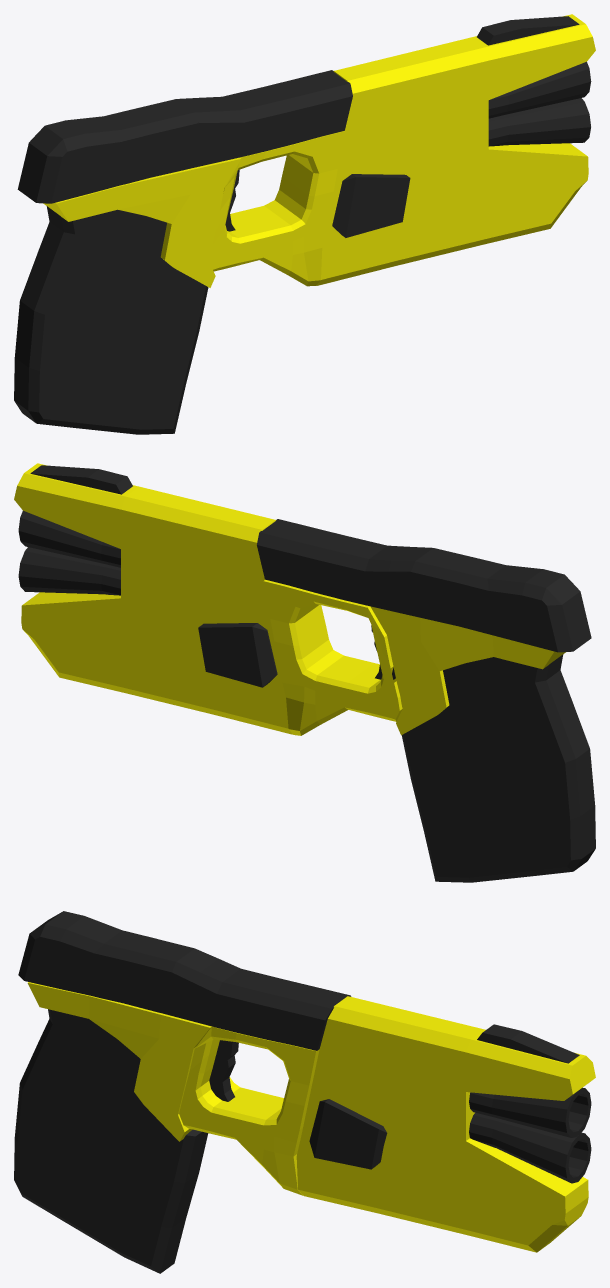
File: Taser.fbx
The picture shows the model from 3 angles, top to bottom: view 1: azimuth 30°, elevation 25°; view 2: azimuth 150°, elevation 25°; view 3: azimuth 330°, elevation 25°; orthographic projection.
Visible parts, largest first — view 1: Cube, Stock, Cube.001, Cube.002, Cube.003, Cube.004, Cylinder.001, Cylinder; view 2: Cube, Stock, Cube.001, Cube.002, Cube.003, Cube.004, Cylinder.001, Cylinder; view 3: Cube, Stock, Cube.001, Cube.002, Cube.003, Cylinder.001, Cube.004, Cylinder, Cube.005.
Part boxes in pixels (x1,y1,x2,y2): Cube: (317, 14, 595, 285); Stock: (14, 206, 208, 434); Cube.001: (17, 70, 352, 203); Cube.002: (209, 131, 344, 286); Cube.003: (43, 157, 240, 287); Cube.004: (332, 174, 410, 237); Cylinder.001: (488, 98, 590, 146); Cylinder: (488, 61, 591, 118); Cube: (14, 463, 292, 734); Stock: (401, 654, 595, 882); Cube.001: (257, 519, 591, 652); Cube.002: (263, 579, 402, 735); Cube.003: (370, 606, 565, 735); Cube.004: (198, 623, 277, 687); Cylinder.001: (18, 547, 120, 595); Cylinder: (18, 510, 120, 567); Cube: (296, 996, 595, 1252); Stock: (14, 1009, 208, 1273); Cube.001: (18, 911, 351, 1050); Cube.002: (179, 1026, 319, 1195); Cube.003: (27, 982, 211, 1141); Cylinder.001: (469, 1112, 591, 1183); Cube.004: (309, 1099, 387, 1169); Cylinder: (469, 1087, 591, 1137); Cube.005: (209, 1040, 238, 1101).
Size of the model in its own units: 352 by 193 by 35.56.
